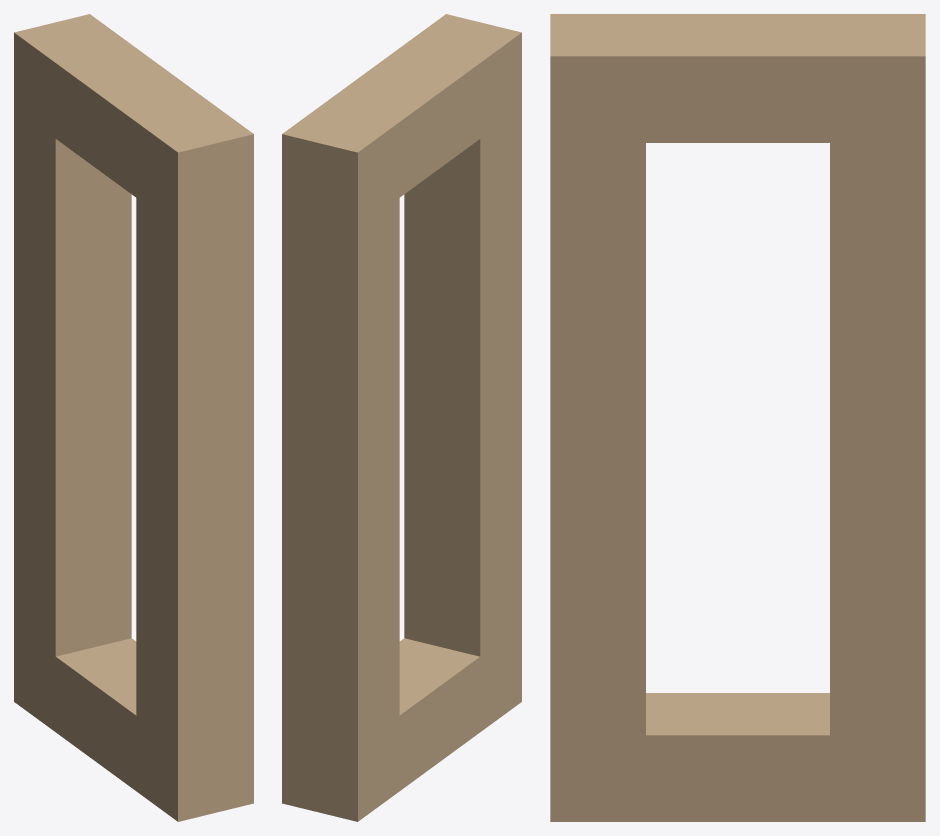
The model's file is detail_015.glb.
The picture shows the model from 3 angles, left to right: view 1: azimuth 30°, elevation 25°; view 2: azimuth 150°, elevation 25°; view 3: azimuth 270°, elevation 25°; orthographic projection. The views are drawn at different scales.
Parts seen in each view (by area): view 1: detail_015; view 2: detail_015; view 3: detail_015.
Part boxes in pixels (x1,y1,x2,y2): detail_015: [14, 14, 253, 821]; detail_015: [282, 14, 521, 821]; detail_015: [550, 14, 925, 821].
Bounding box in the file's own units: 0.05 × 0.4219 × 0.1875.
